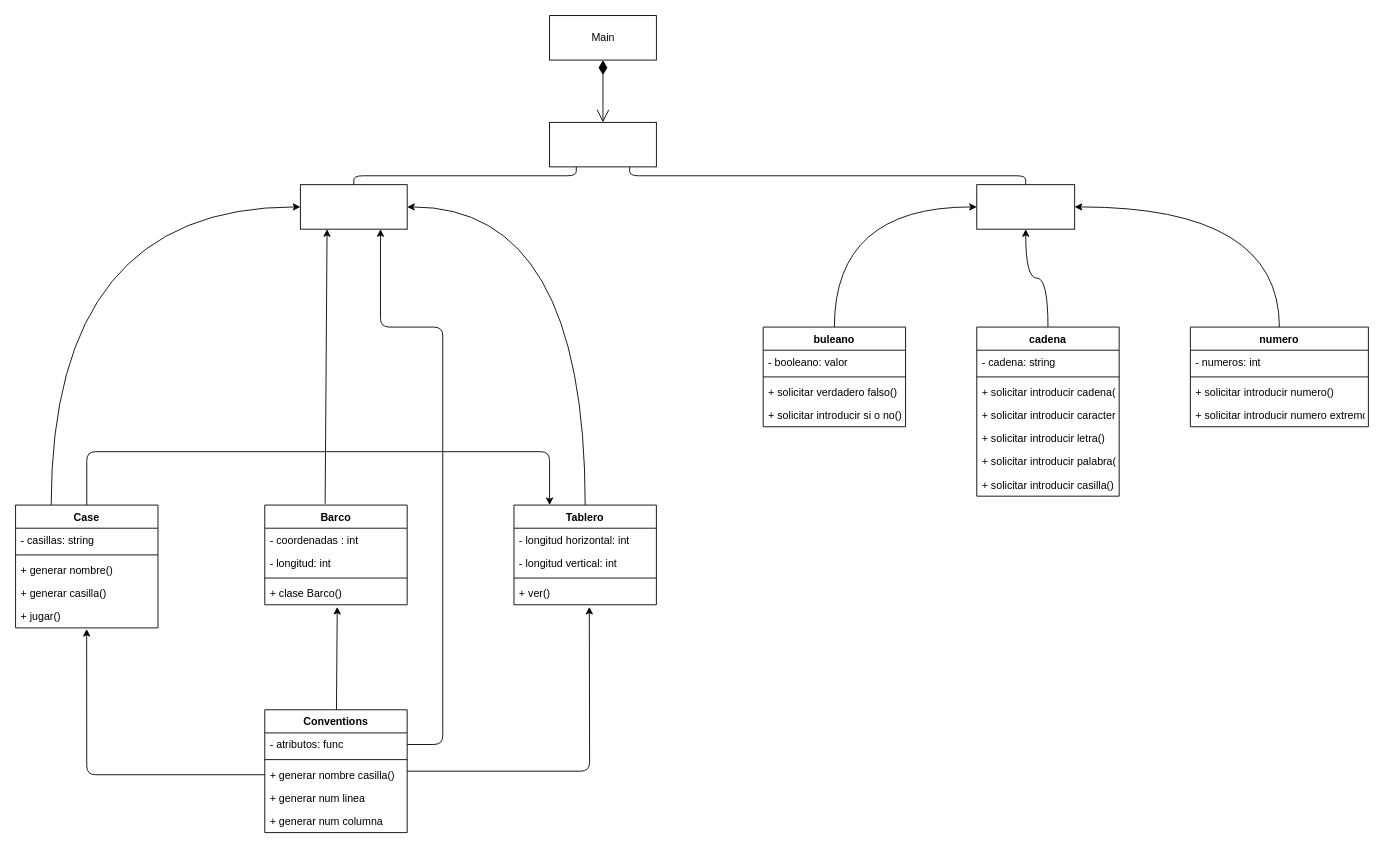
This 1390x851 diagram has some shape labels left out. Each missing label, with the centre of its shape:
"clases" goes at point 353,206.
"Introducir" goes at point 1025,206.
"Juego" goes at point 602,144.
